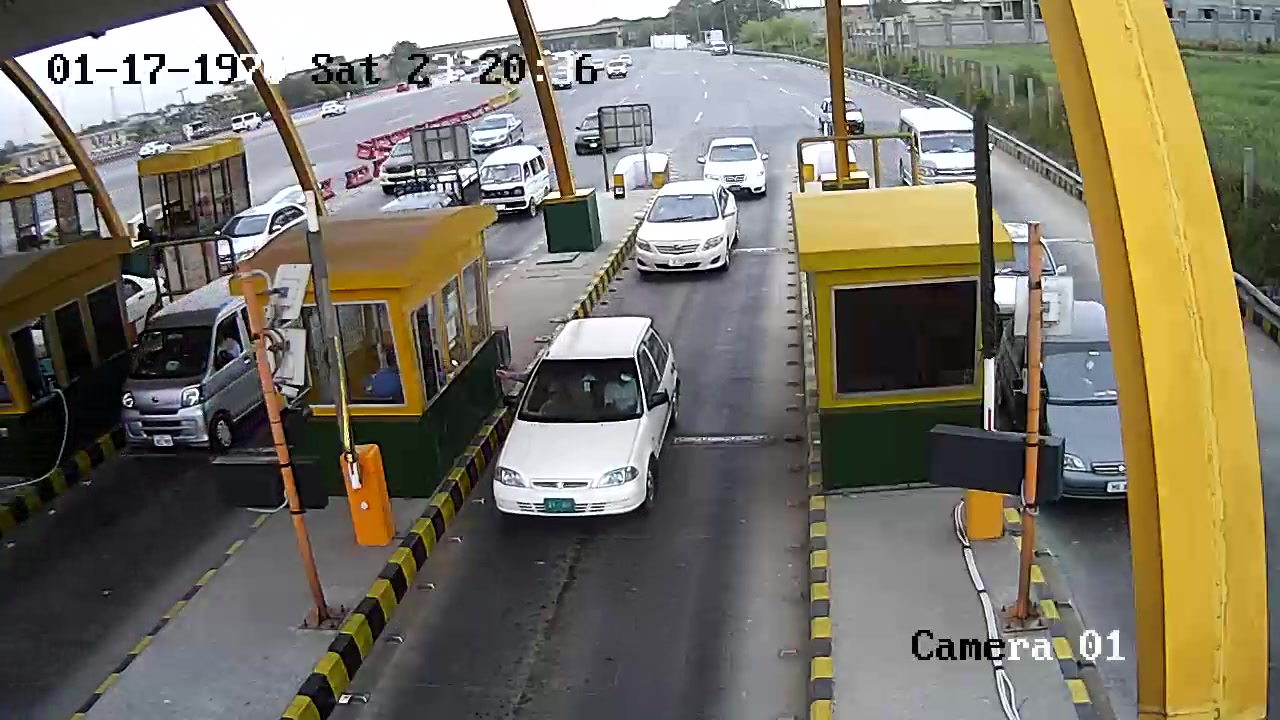F1: (481, 312, 700, 540)
